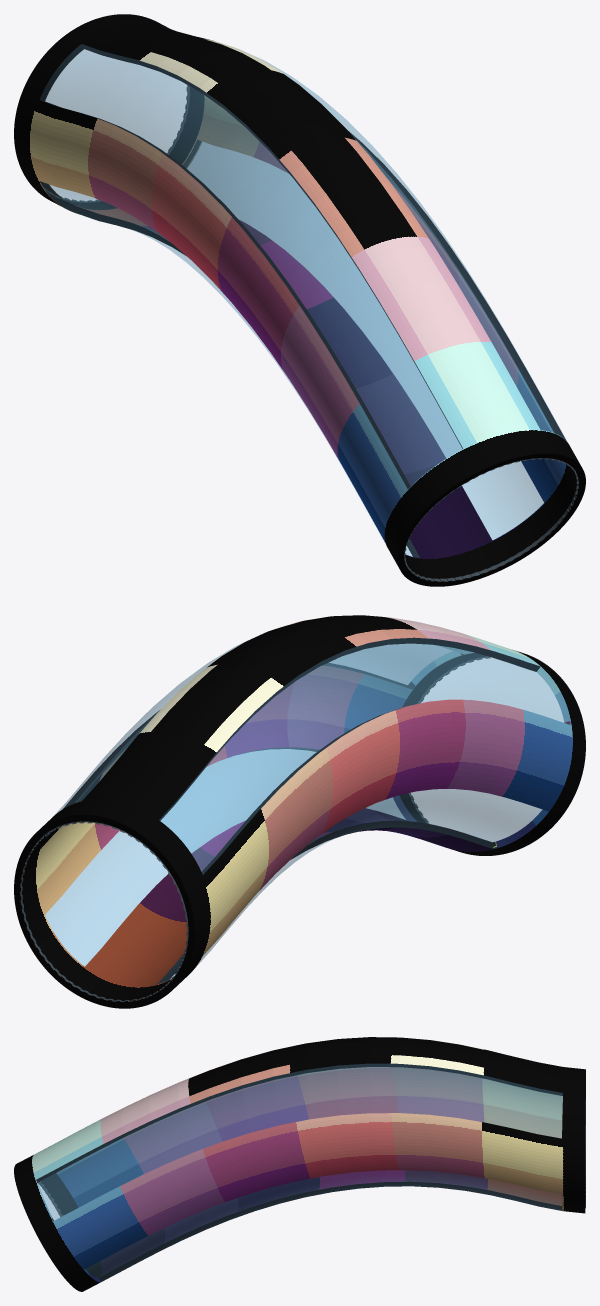
Rendered from LD50-Pipe-D-01.glb.
3 views of the same model, one above another, from view 1: azimuth 30°, elevation 25°; view 2: azimuth 150°, elevation 25°; view 3: azimuth 270°, elevation 25° (orthographic). The views are drawn at different scales.
Parts seen in each view (by area): view 1: Pipe-D-01, Pipe-D-01-Joint; view 2: Pipe-D-01, Pipe-D-01-Joint; view 3: Pipe-D-01.
Part boxes in pixels (x1,y1,x2,y2): Pipe-D-01: [14, 14, 585, 586]; Pipe-D-01-Joint: [43, 85, 578, 581]; Pipe-D-01: [14, 615, 585, 1008]; Pipe-D-01-Joint: [20, 656, 490, 1001]; Pipe-D-01: [14, 1037, 585, 1291].
Size of the model in its own units: 32.2 by 59.99 by 128.
Materials: 2 (2 with a texture image).
